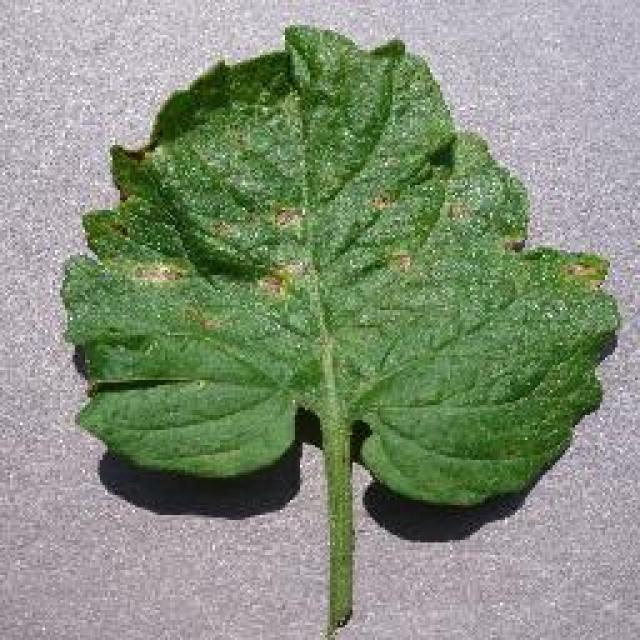Tomato target spot leaf: (60, 24, 605, 511)
